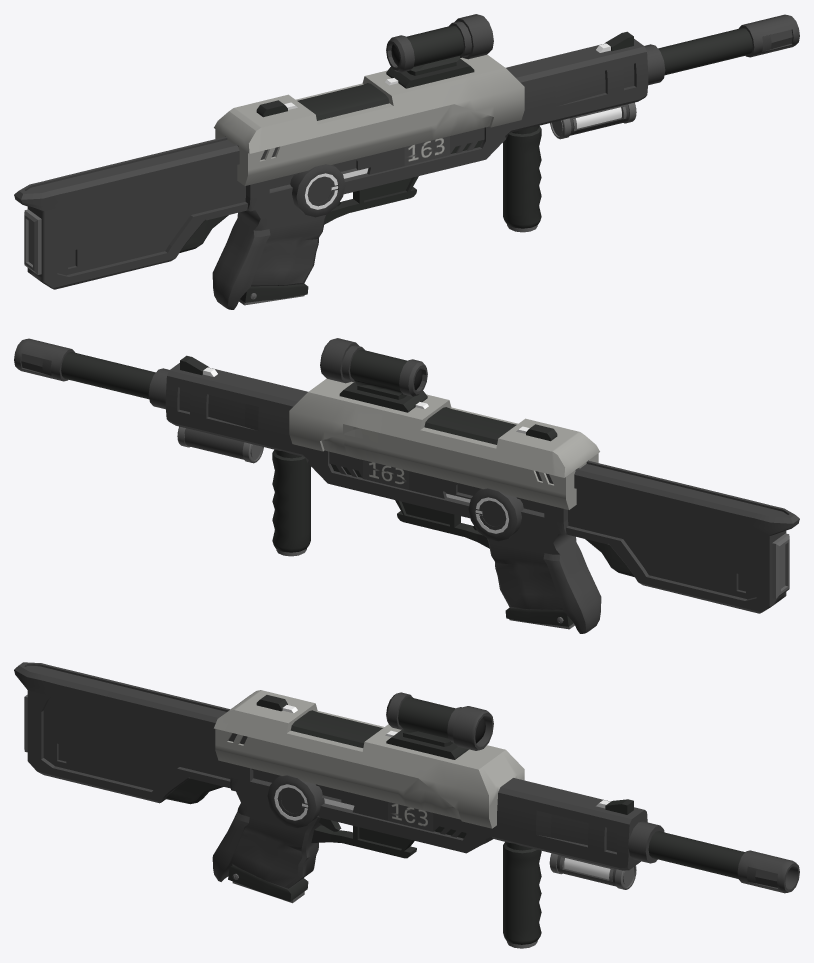
Rendered from Rifle.fbx.
3 views of the same model, one above another, from view 1: azimuth 30°, elevation 25°; view 2: azimuth 150°, elevation 25°; view 3: azimuth 330°, elevation 25° (orthographic).
Parts seen in each view (by area): view 1: pCylinder5; view 2: pCylinder5; view 3: pCylinder5.
Boxes of the visible parts, <box> form: pCylinder5: <box>14,14,799,309</box>; pCylinder5: <box>14,338,799,633</box>; pCylinder5: <box>14,662,799,948</box>.
Size of the model in its own units: 46.79 by 13.39 by 3.77.
Materials: 9 (1 with a texture image).
